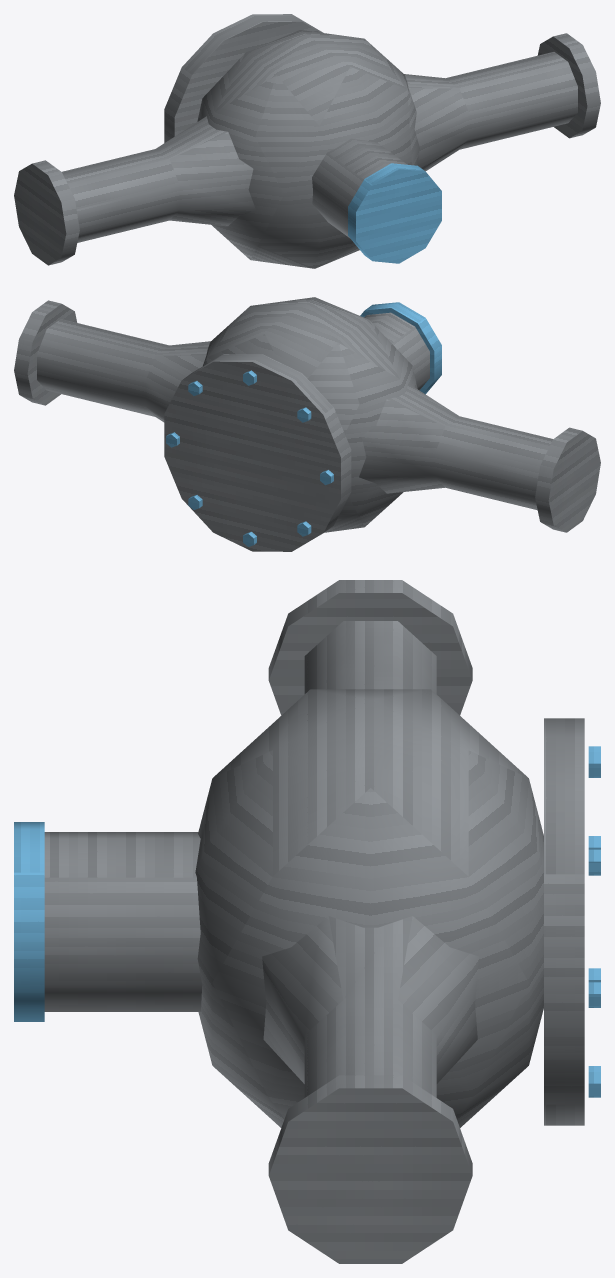
Rendered from diferencial_n1.glb.
3 views of the same model, one above another, from view 1: azimuth 30°, elevation 25°; view 2: azimuth 150°, elevation 25°; view 3: azimuth 270°, elevation 25° (orthographic). The views are drawn at different scales.
Visible parts, largest first — view 1: diferencial_n1; view 2: diferencial_n1; view 3: diferencial_n1.
Part boxes in pixels (<box>): diferencial_n1: <box>14,14,600,268</box>; diferencial_n1: <box>14,297,600,551</box>; diferencial_n1: <box>14,580,600,1263</box>.
Size of the model in its own units: 0.59 by 0.24 by 0.288.
Materials: 1 (1 with a texture image).
